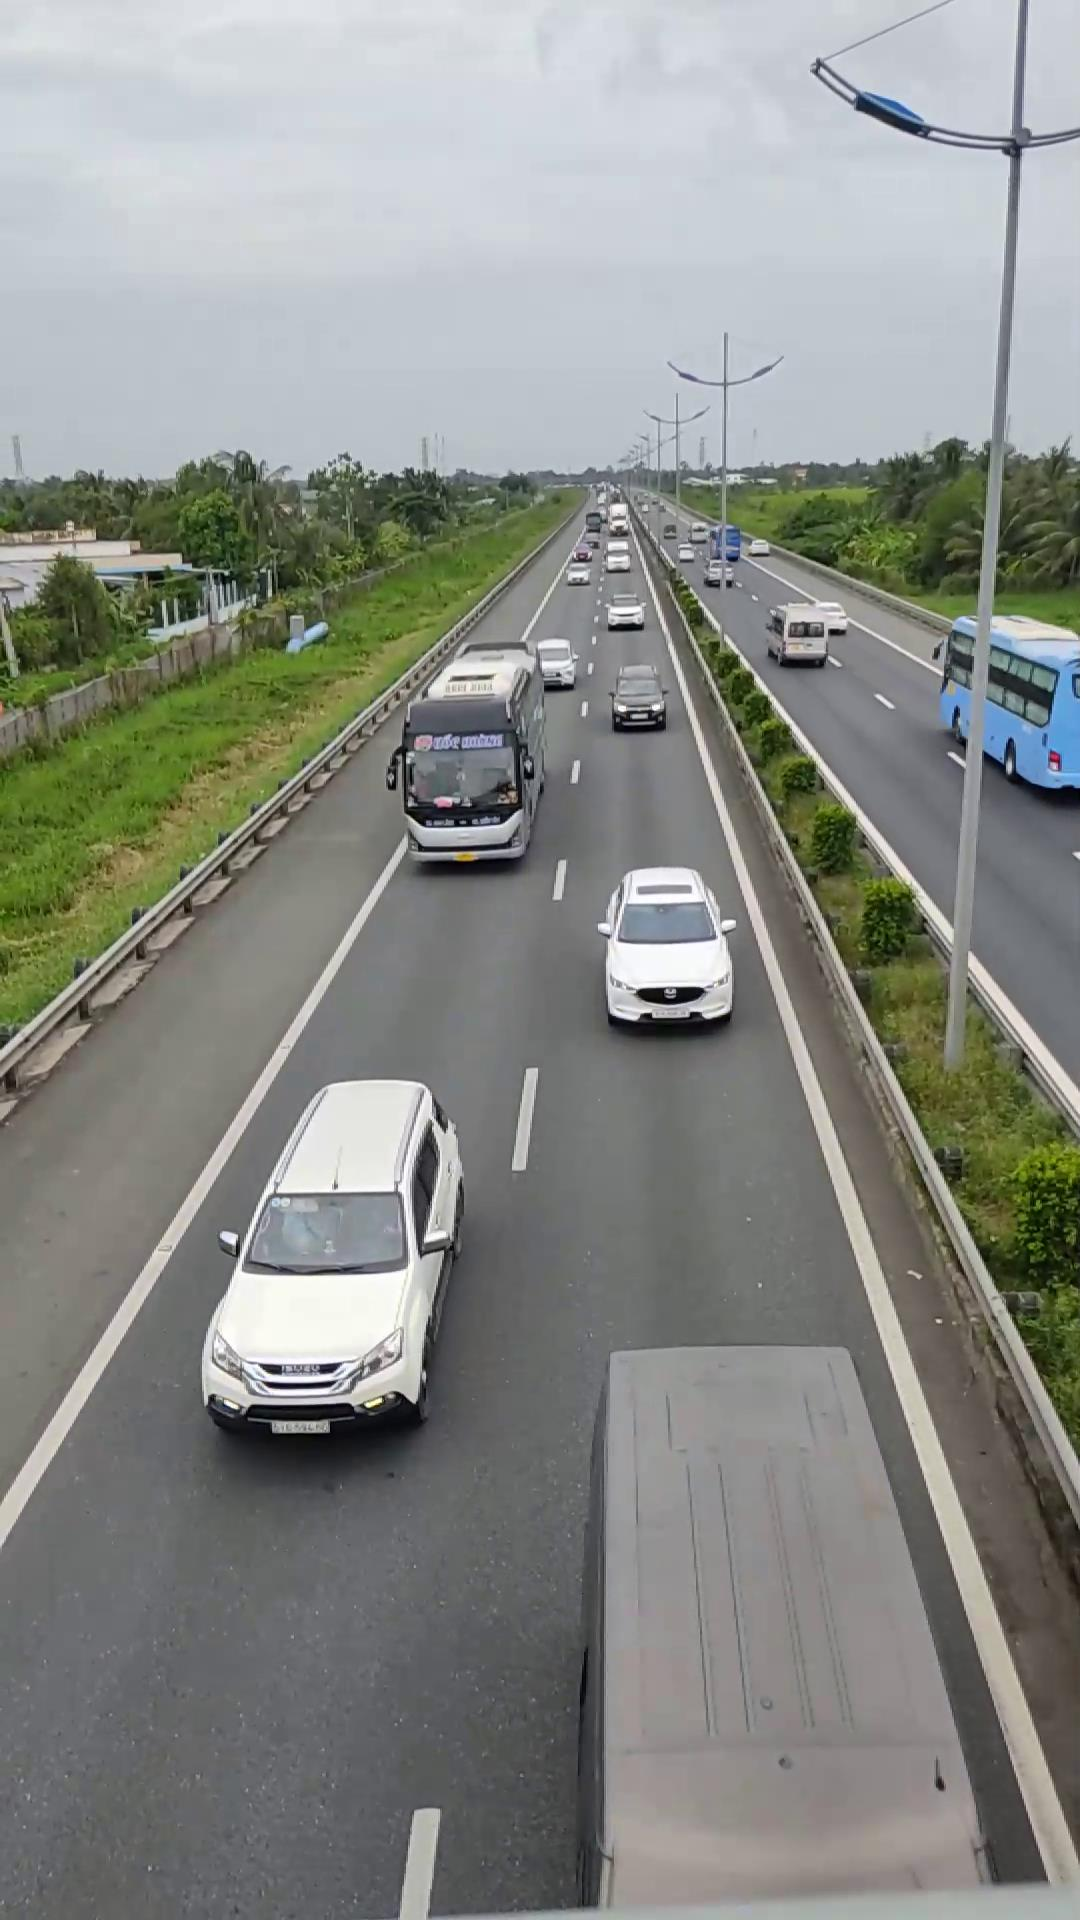bus: (392, 644, 546, 866), (935, 611, 1079, 796)
car: (568, 1337, 990, 1887), (199, 1076, 465, 1437), (596, 865, 737, 1029)
